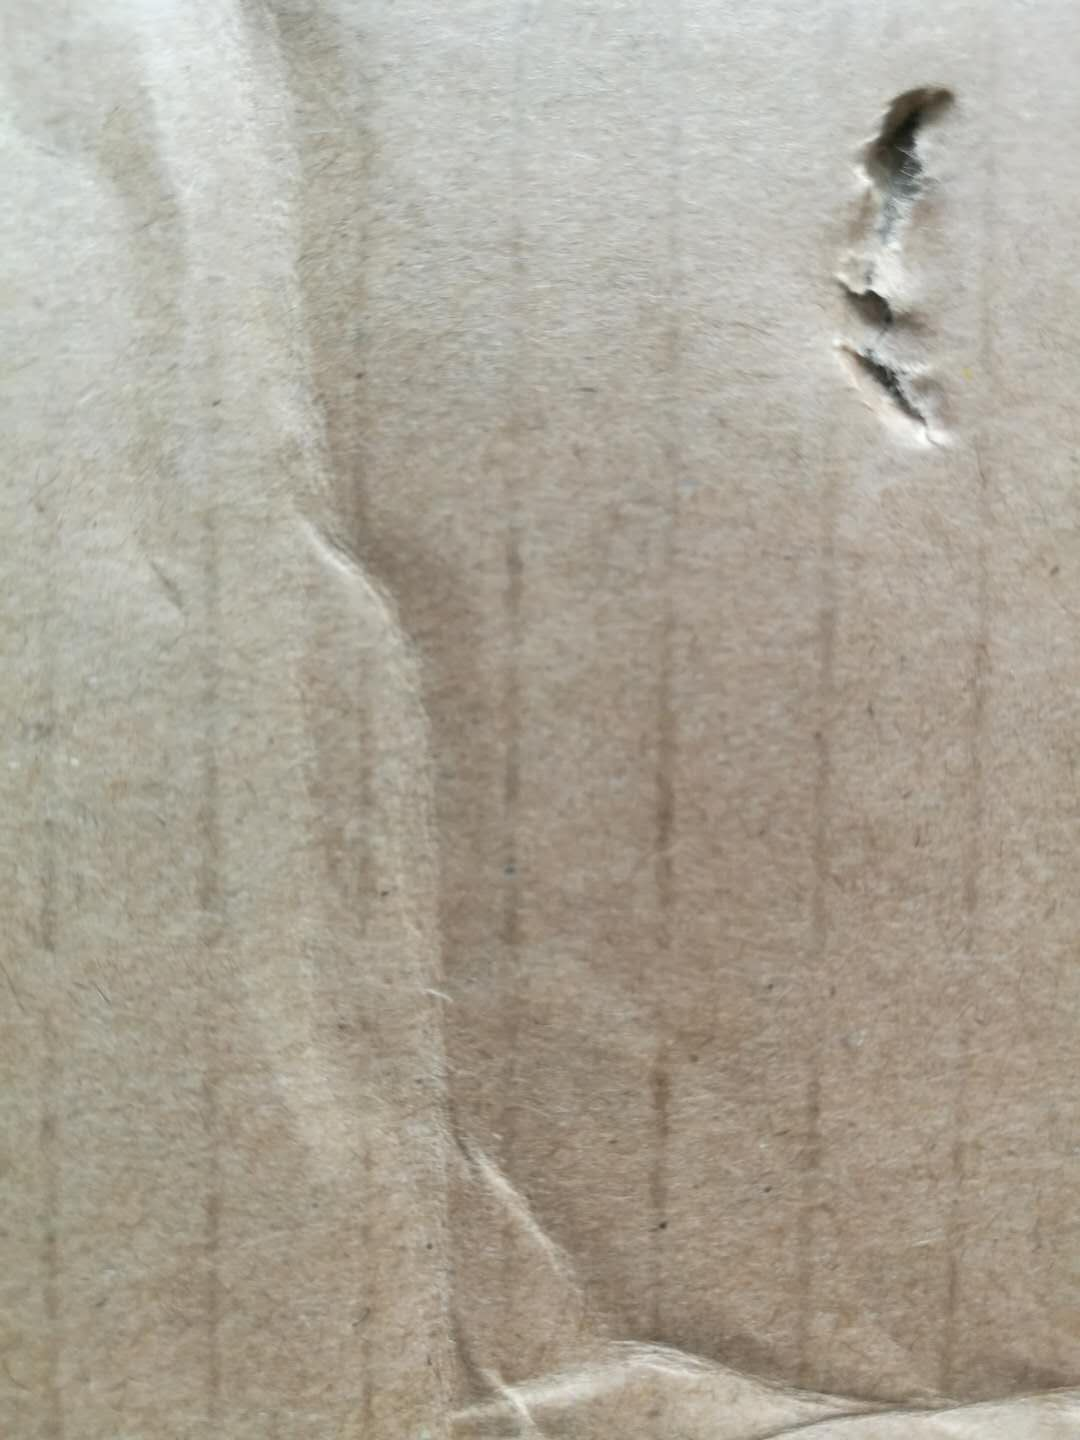defect: (6, 5, 651, 1439), (386, 1068, 1079, 1440), (786, 61, 1019, 472)
